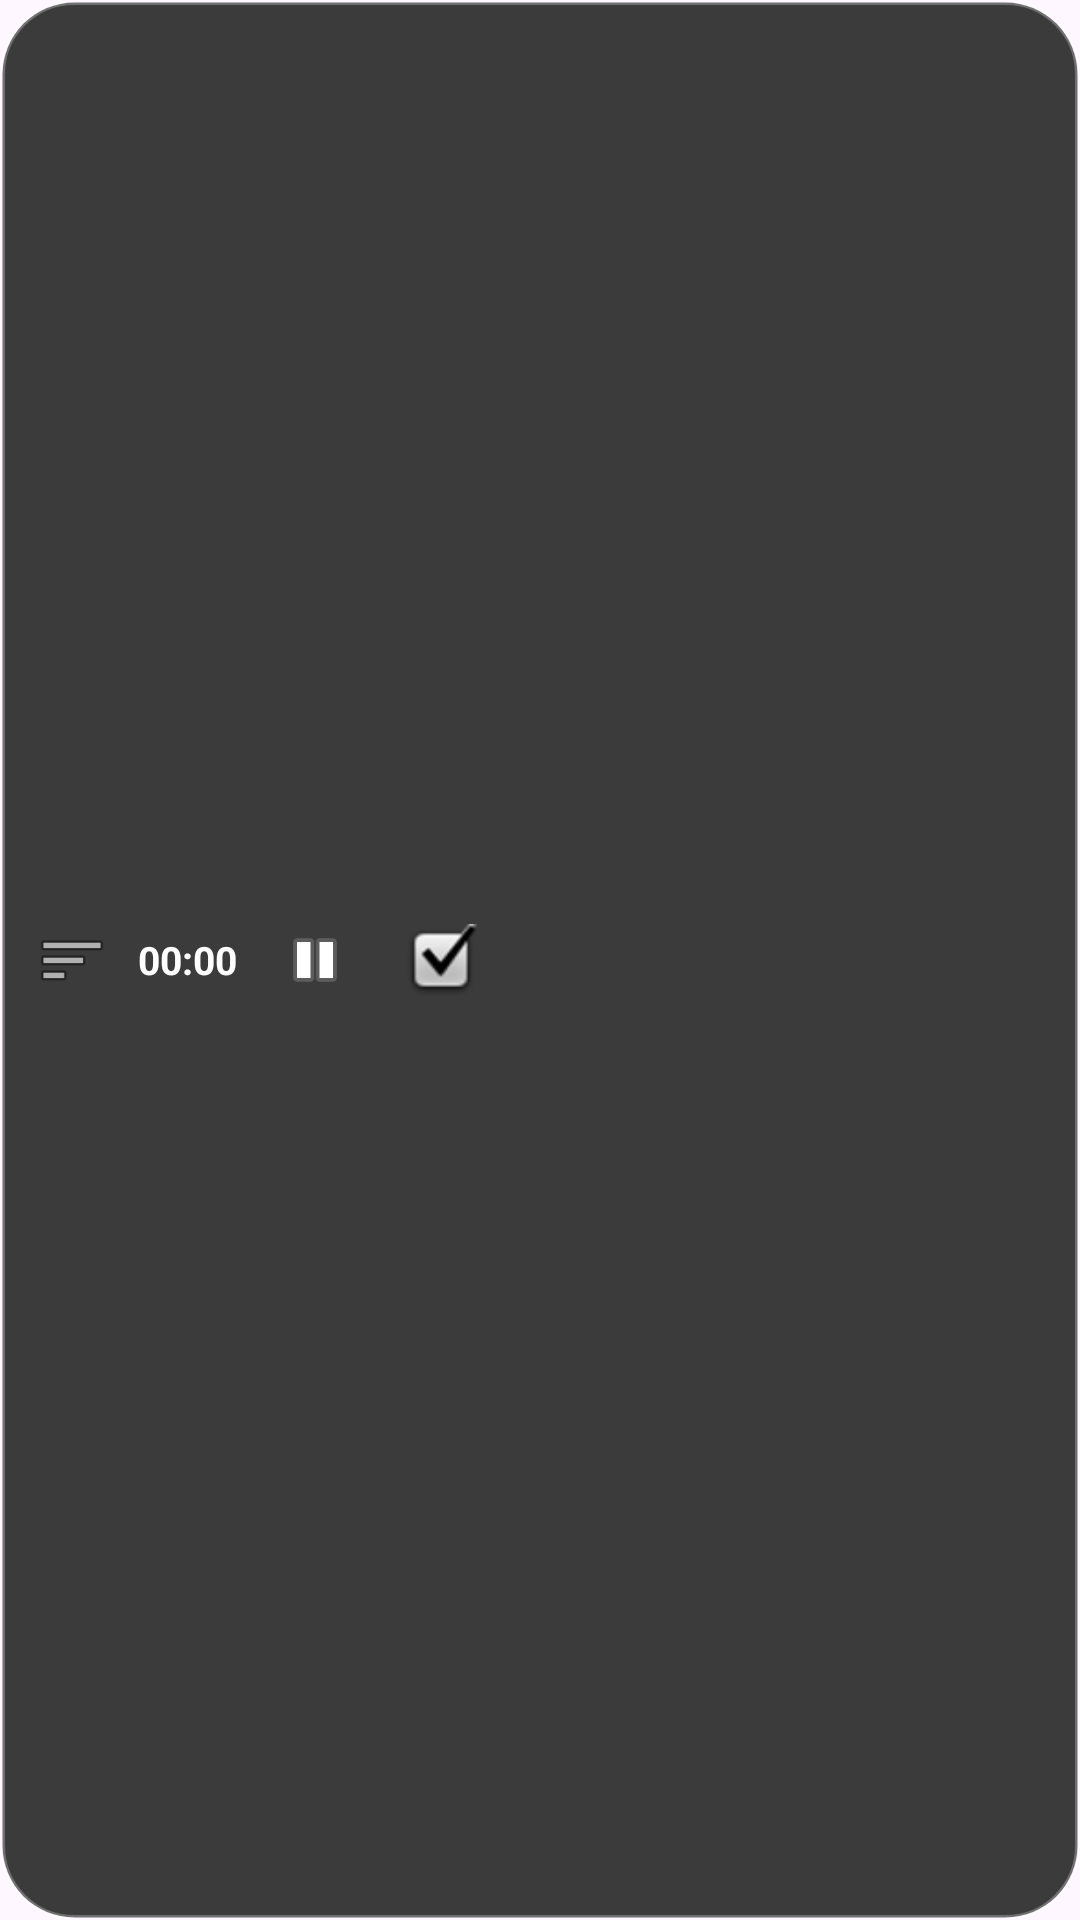

Screen size 1080×1920. Icon name, then its box in pixels as (x1, y1, x2, y2):
Pause/Resume: (293, 938, 337, 982)
